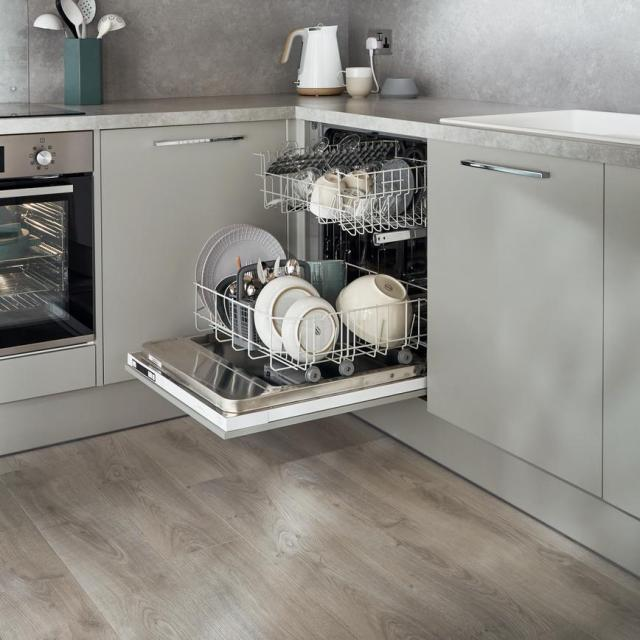dishwasher: (274, 98, 440, 524)
